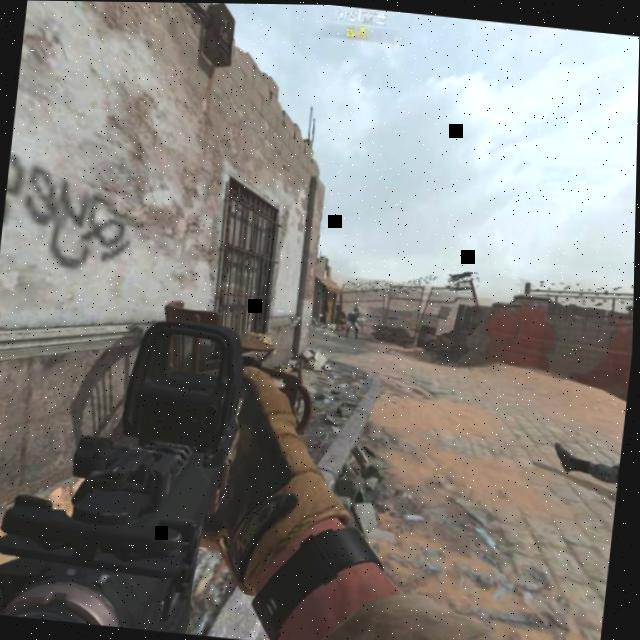MW2_body: (345, 304, 364, 339)
